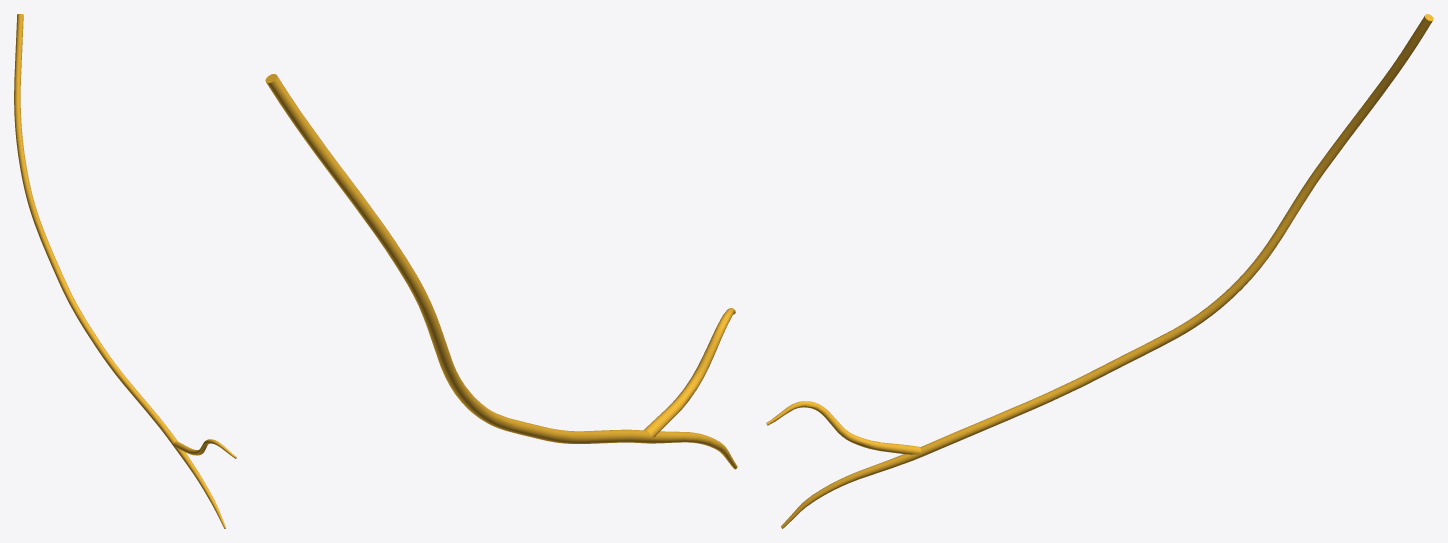
The model's file is nervoso-buccal-nerve-r.glb.
3 renders of one model, left to right at view 1: azimuth 30°, elevation 25°; view 2: azimuth 150°, elevation 25°; view 3: azimuth 270°, elevation 25°, orthographic. The views are drawn at different scales.
Parts seen in each view (by area): view 1: Buccal nerve.r; view 2: Buccal nerve.r; view 3: Buccal nerve.r.
Part boxes in pixels (x1,y1,x2,y2): Buccal nerve.r: (14,14,236,528); Buccal nerve.r: (265,74,737,469); Buccal nerve.r: (766,14,1433,528).
Bounding box in the file's own units: 0.00426 × 0.0355 × 0.041.
